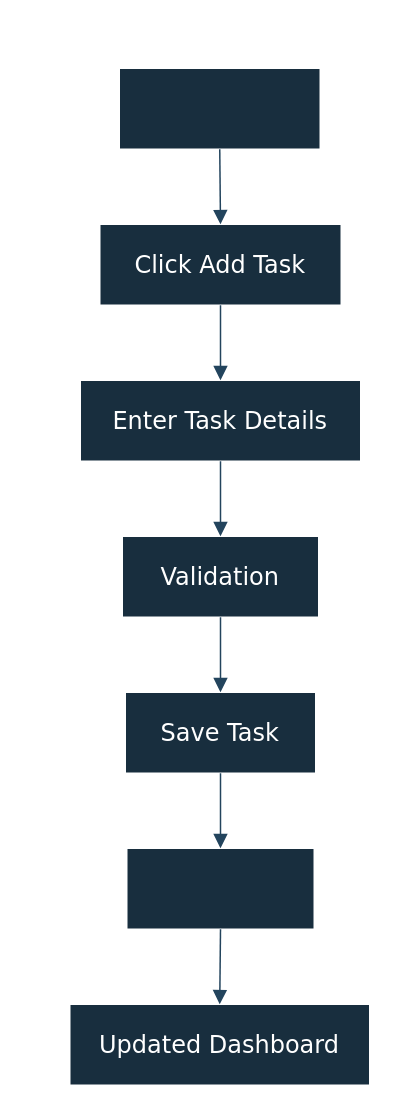
This 396x1112 diagram has some shape labels left out. The shapes that lost their labels are listed below. From the top down, each one's box as (x1, y1, x2, y2) in pixels, then its label:
(118, 67, 320, 149): Dashboard
(125, 847, 314, 929): Database
